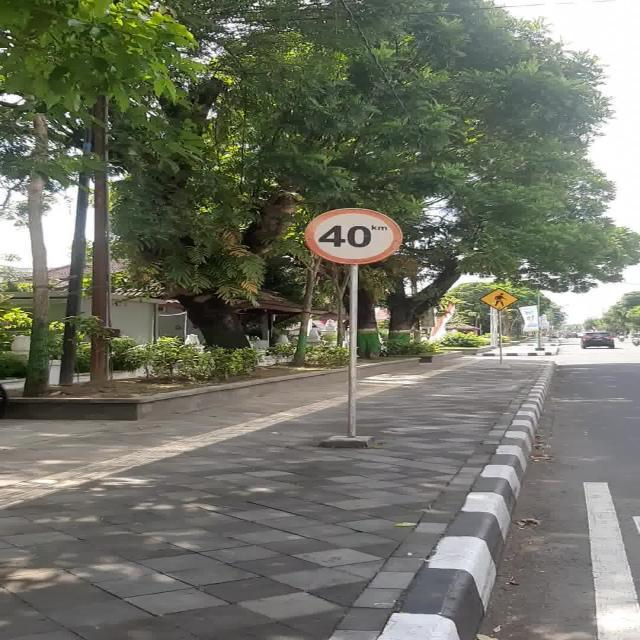Kecepatan Maks. 40 km: (305, 207, 403, 265)
